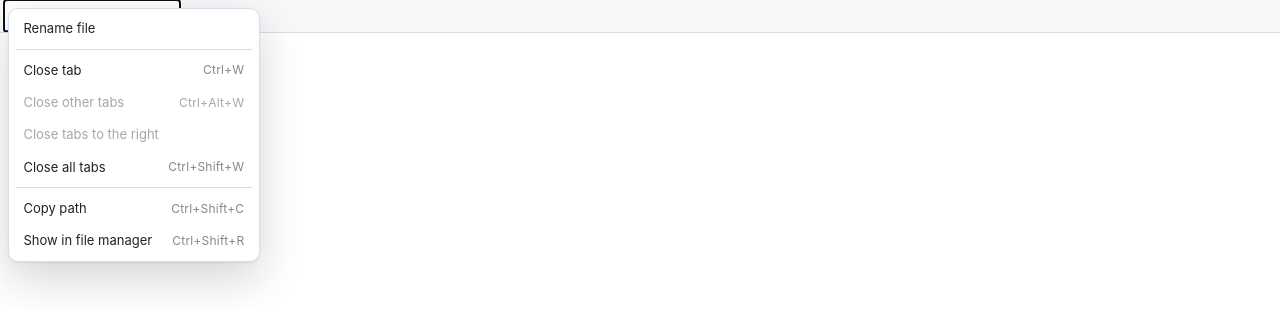
it: Tabs › context menu Rename file starts inline tab rename
The width and height of the screenshot is (1280, 310).
Click the menu item "Rename file".
click(134, 29)  # box [13,13,255,45]
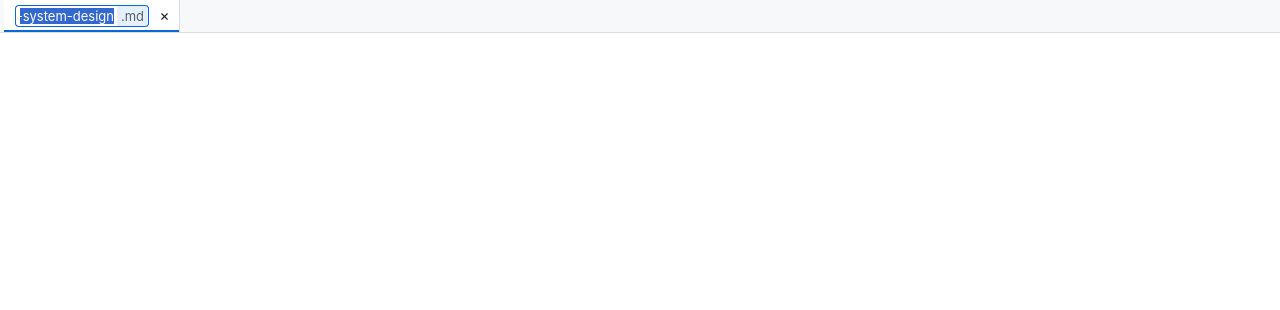
Check: the field named "Rename file" holds "01-system-design", box [15,5,117,27]
Check: the menu with test id "tab-context-menu" is gone
